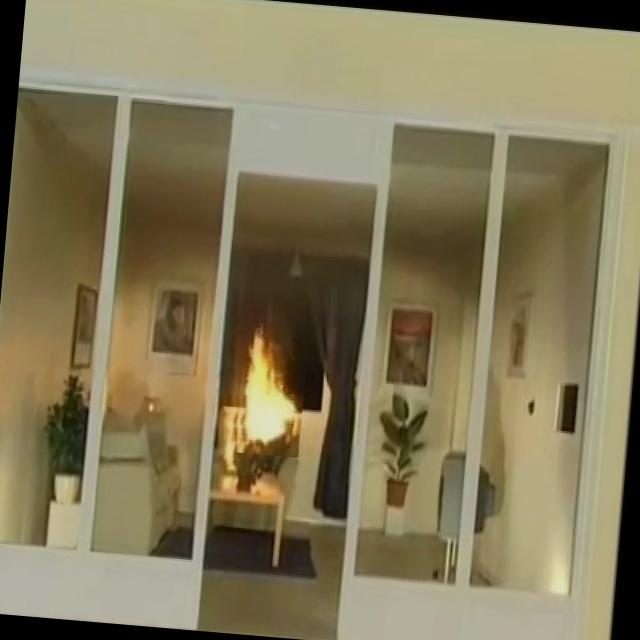fire: (226, 324, 327, 486)
